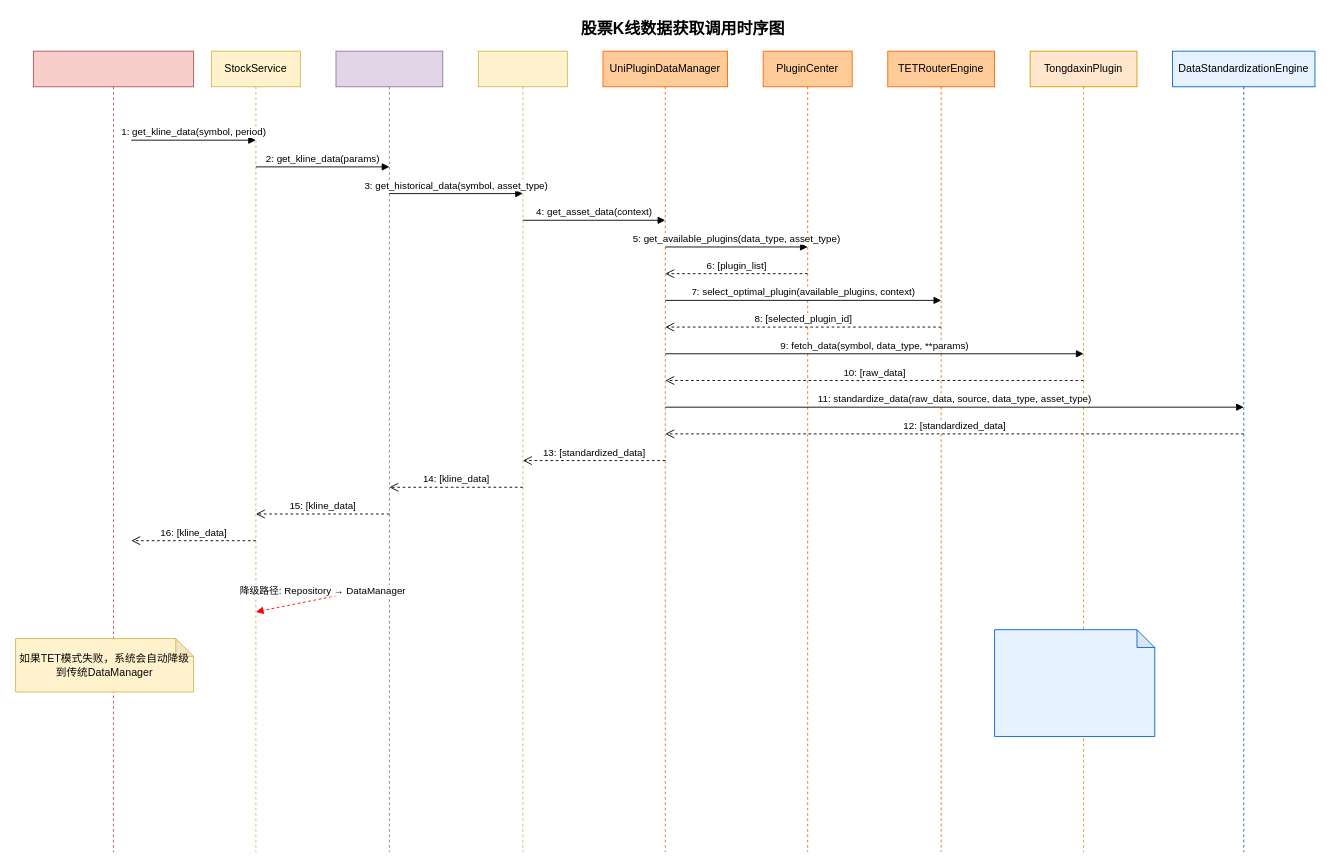
The diagram is 1331 pixels wide and 868 high, and some of its shapes have lost their labels. The box of each missing label's shape, as (x1, y1, x2, y2) in pixels:
AssetService: (477, 50, 567, 852)
KlineRepository: (335, 50, 443, 852)
关键特性: • 智能路由选择最优插件 • 自动数据标准化 • 容错降级机制 • 支持多种资产类型 • 插件化扩展: (994, 629, 1155, 736)
用户请求: (32, 50, 194, 852)
